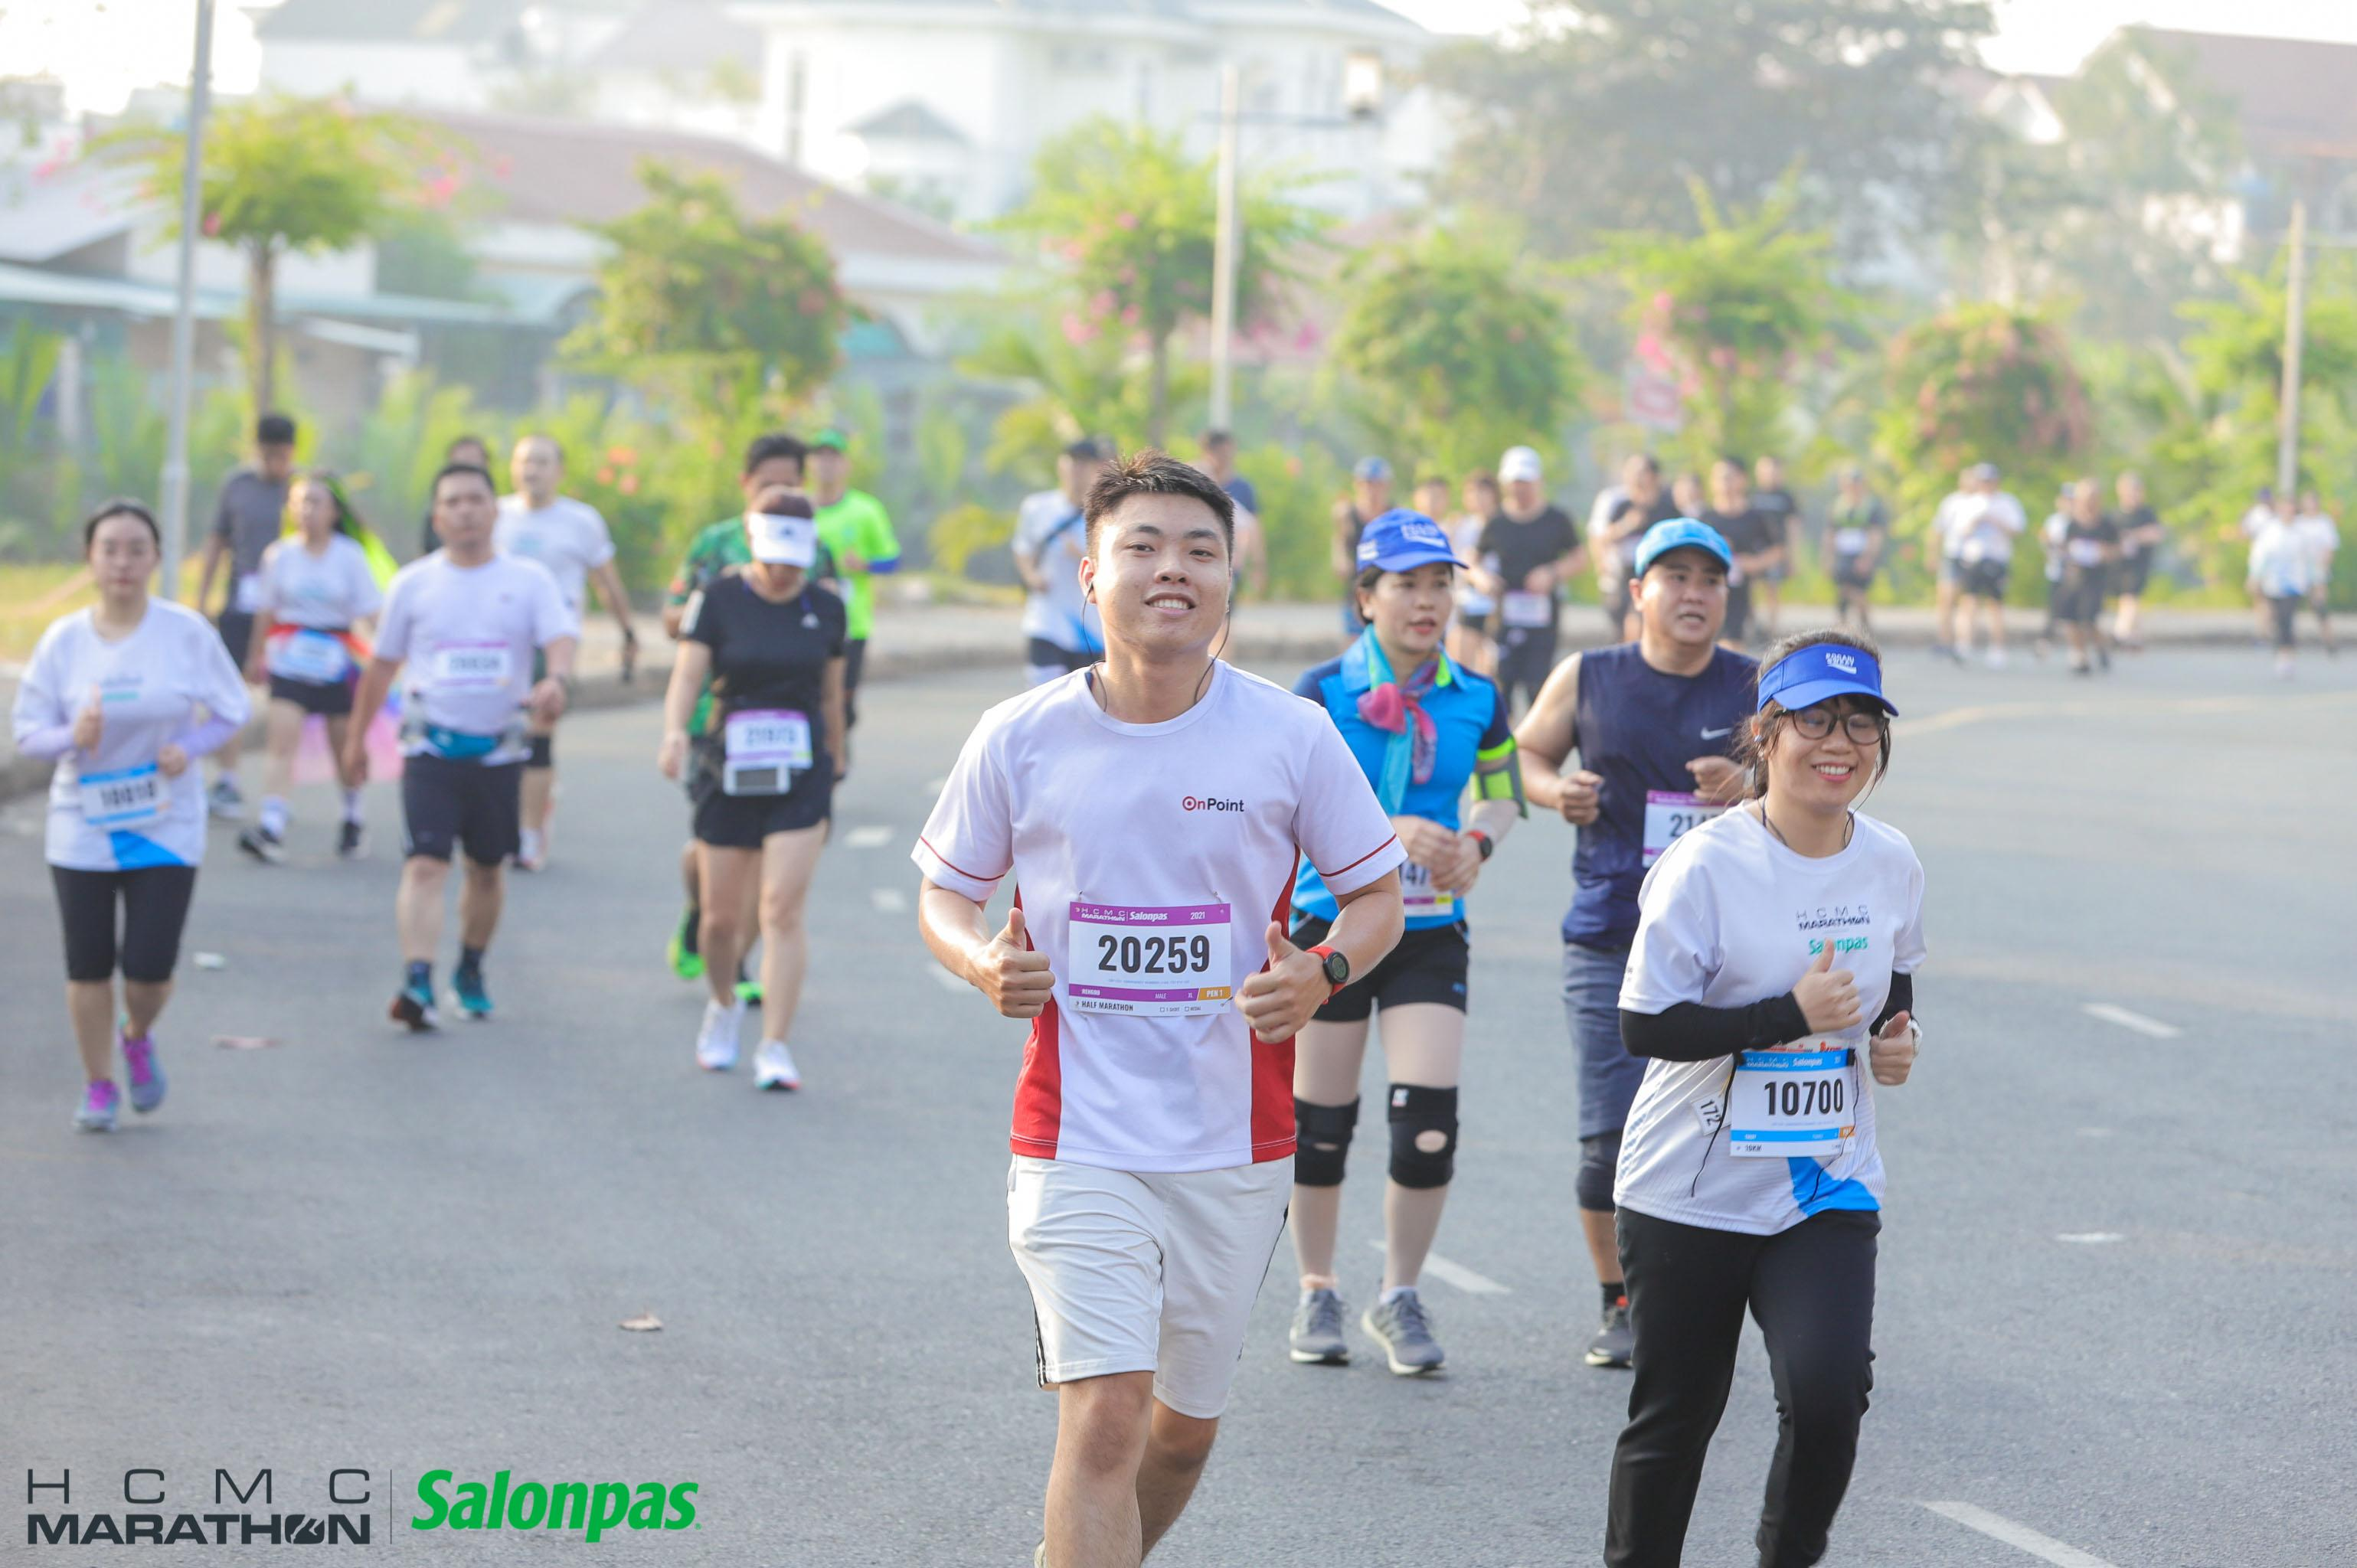bib: (1064, 898, 1227, 1025), (1732, 1048, 1853, 1151), (79, 766, 178, 831), (1640, 789, 1724, 857), (721, 709, 812, 770), (1382, 849, 1451, 917), (437, 644, 509, 686)
